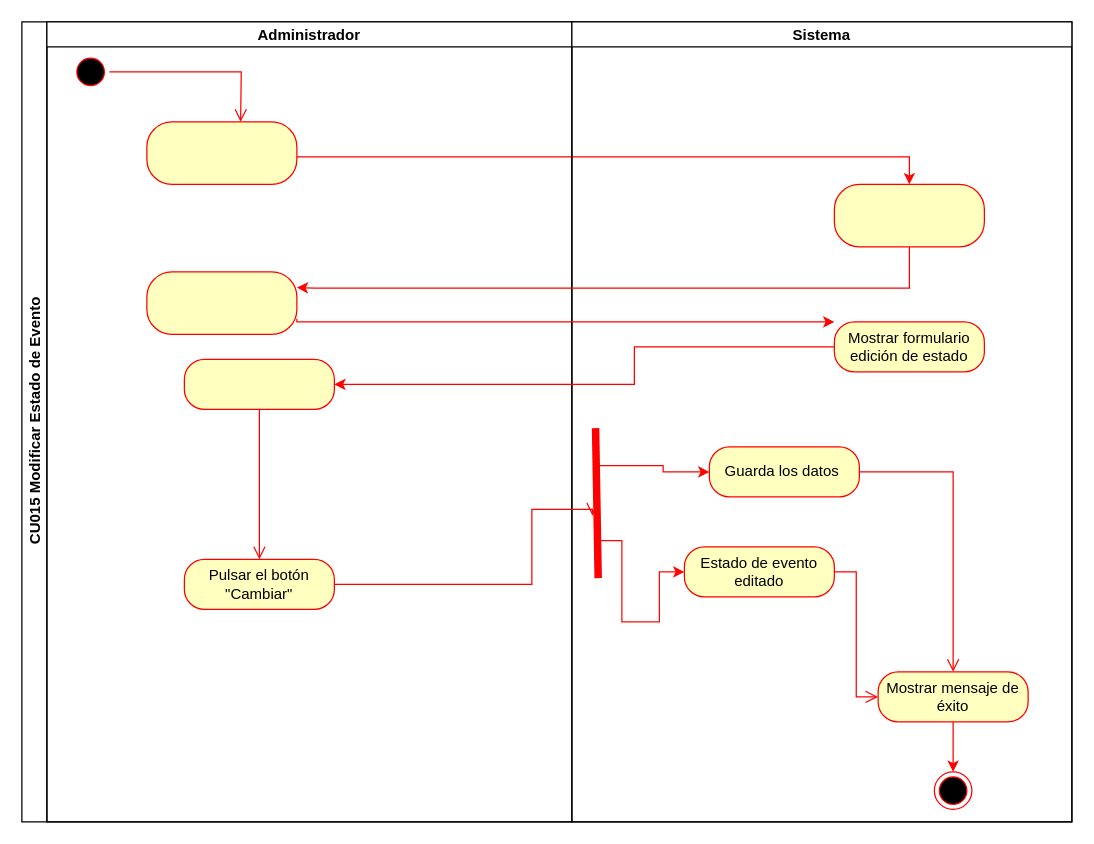
Some shapes in this 1094 by 844 pixel diagram are drawn without their labels. Each missing label, with the centre of its shape:
Mostrar apartado: (x=908, y=215)
Pulsa el apartado "Administrar Eventos": (x=221, y=152)
Pulsar el botón "Editar estado de evento": (x=221, y=302)
Seleccionar estado: (x=258, y=383)
